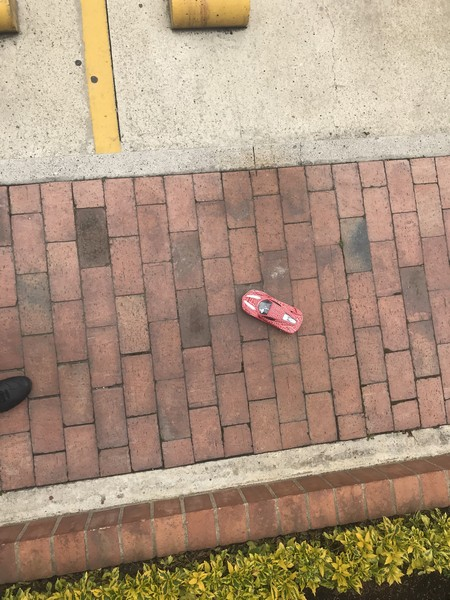RC: (238, 287, 305, 338)
